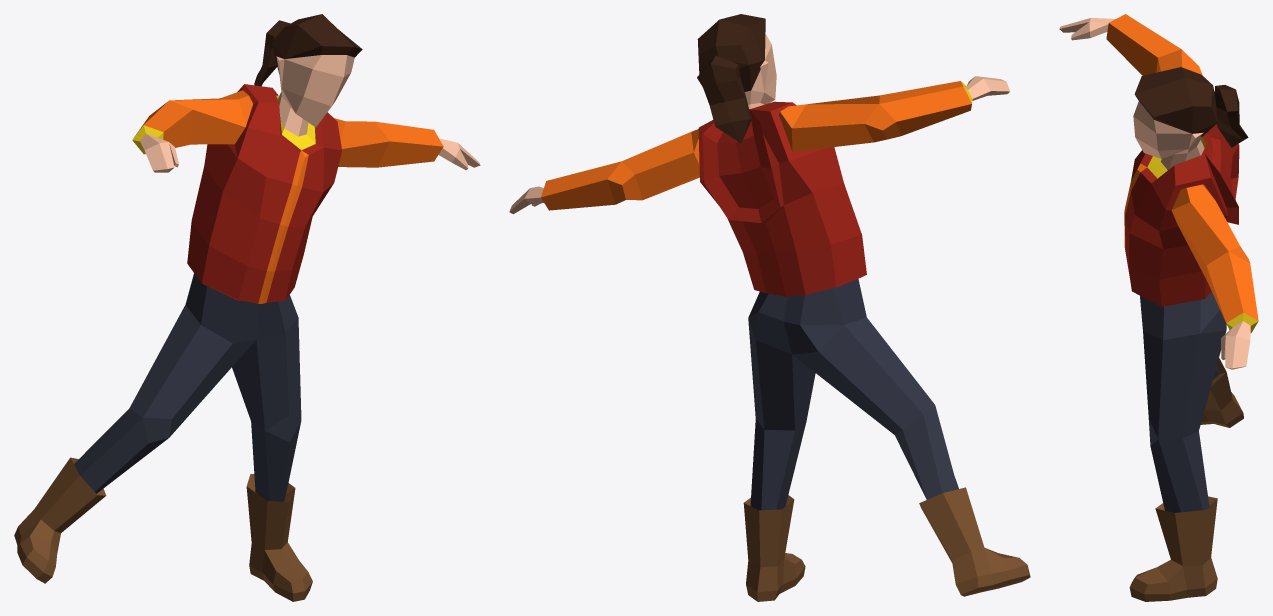
The model's file is AutumnGirl.005.glb.
The picture shows the model from 3 angles, left to right: view 1: azimuth 30°, elevation 25°; view 2: azimuth 150°, elevation 25°; view 3: azimuth 270°, elevation 25°; orthographic projection. The views are drawn at different scales.
Visible parts, largest first — view 1: AutumnGirl.005; view 2: AutumnGirl.005; view 3: AutumnGirl.005.
Part boxes in pixels (left/top/right/bottom): AutumnGirl.005: left=14, top=14, right=480, bottom=601; AutumnGirl.005: left=509, top=14, right=1030, bottom=601; AutumnGirl.005: left=1059, top=14, right=1258, bottom=601.
Bounding box in the file's own units: 1.55 × 1.7 × 0.5664.
Materials: 1 (1 with a texture image).
